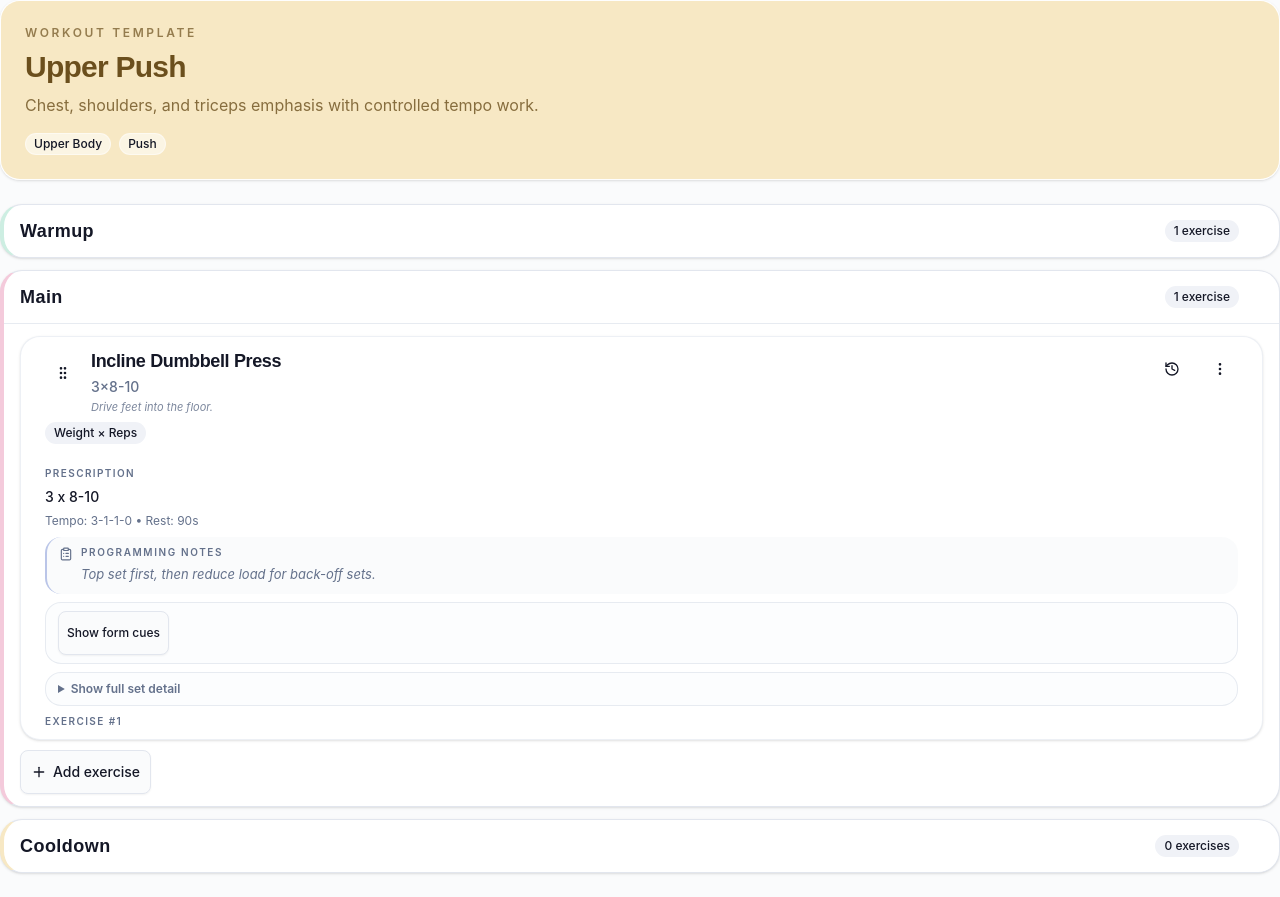
Test: WorkoutTemplateDetail › hydrates coaching notes text from the exercise lookup when template notes are missing
Click the button "Incline Dumbbell Press".
click(186, 361)  # box [91, 347, 281, 375]
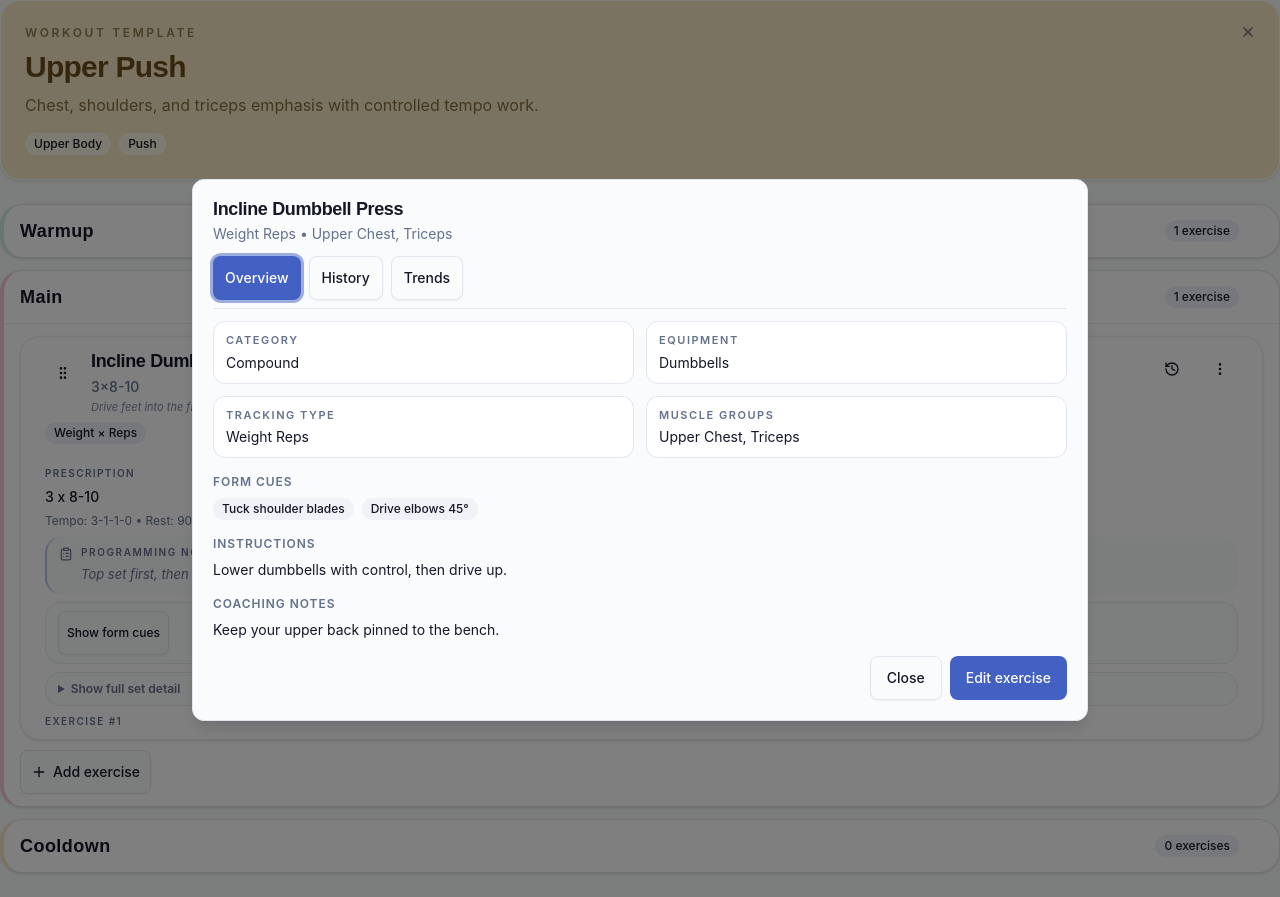
Expected: the text "Keep your upper back pinned to the bench." is shown, [213, 621, 499, 638]
